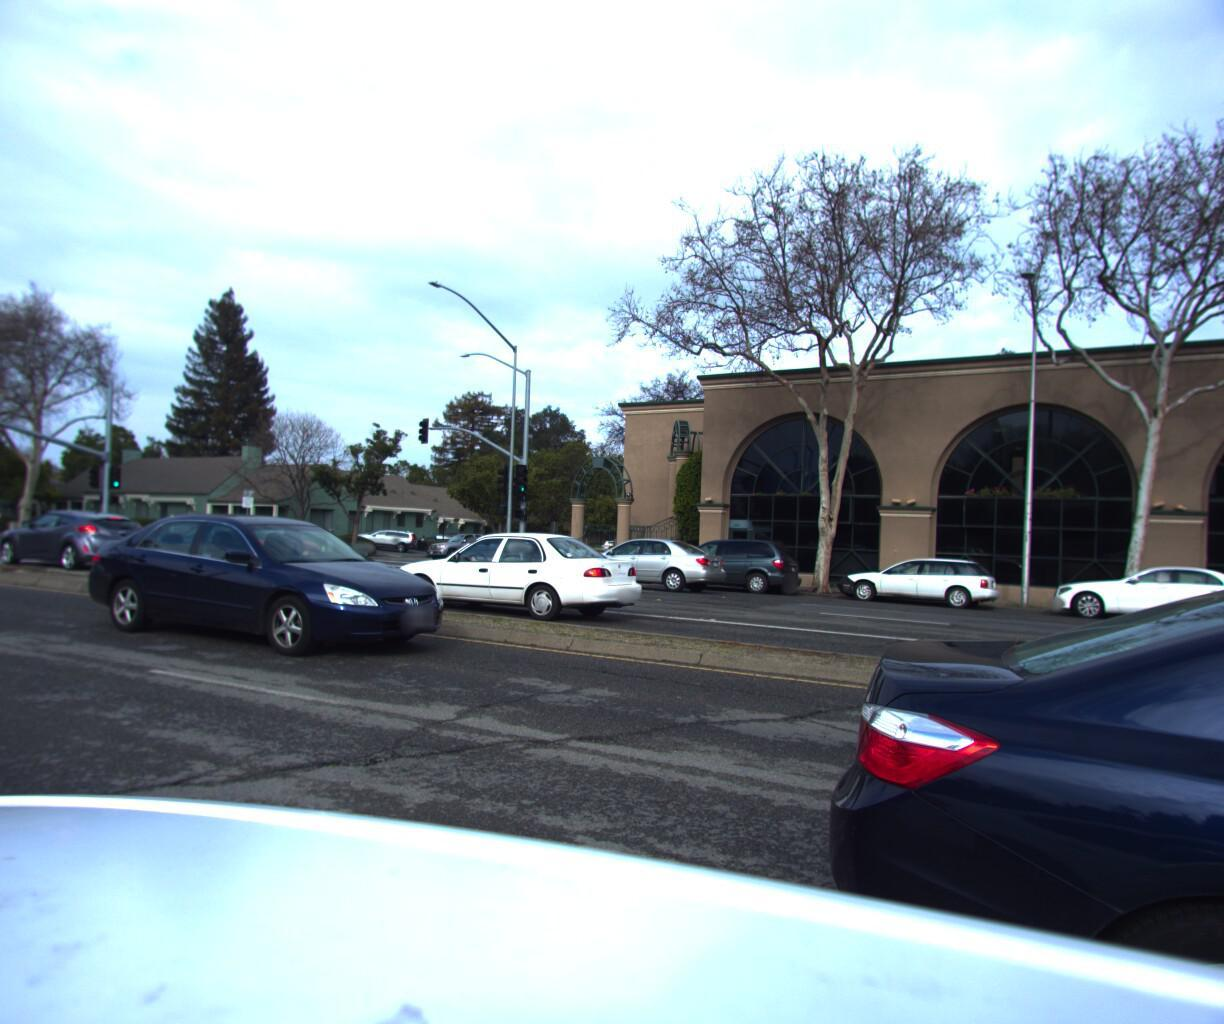car: (703, 534, 1224, 1024), (80, 505, 467, 663), (377, 520, 651, 626), (1044, 553, 1224, 633), (833, 538, 1004, 608), (0, 501, 156, 569), (645, 530, 807, 594), (579, 535, 734, 593), (419, 527, 517, 556), (355, 523, 419, 548), (602, 532, 653, 554), (0, 500, 5, 534)
